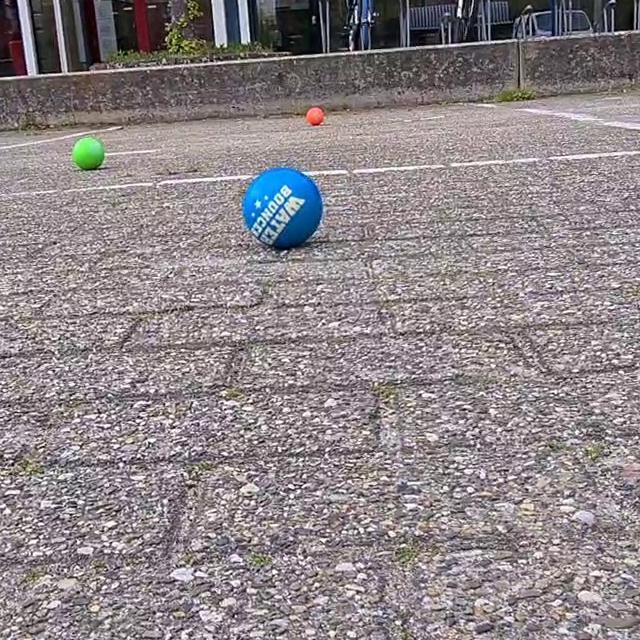ball: (72, 133, 108, 176), (302, 102, 326, 130)
